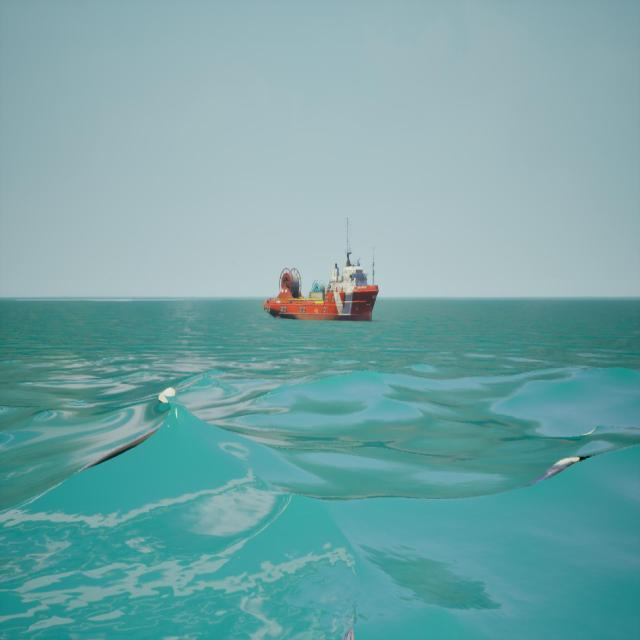tug boat: (268, 218, 379, 324)
